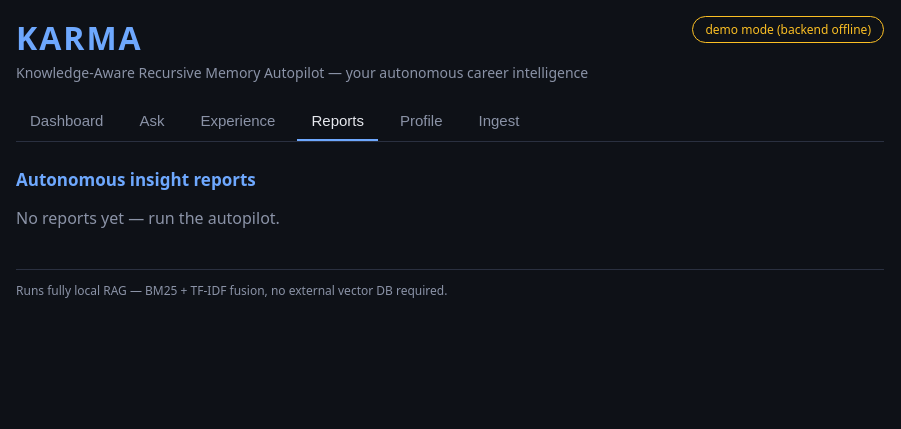
it: failure feedback + demo fallback correctness › Ask shows a real error card when the backend returns an error
Click the button with test id "tab-Ask" at [152, 122], box 125,102 -> 178,141
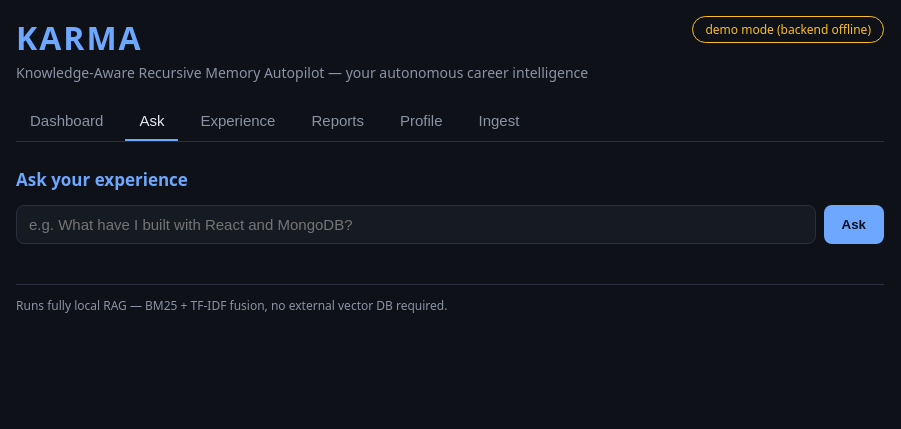
Type "question?" into the field with test id "ask-input" at [416, 225], box 16,205 -> 816,244
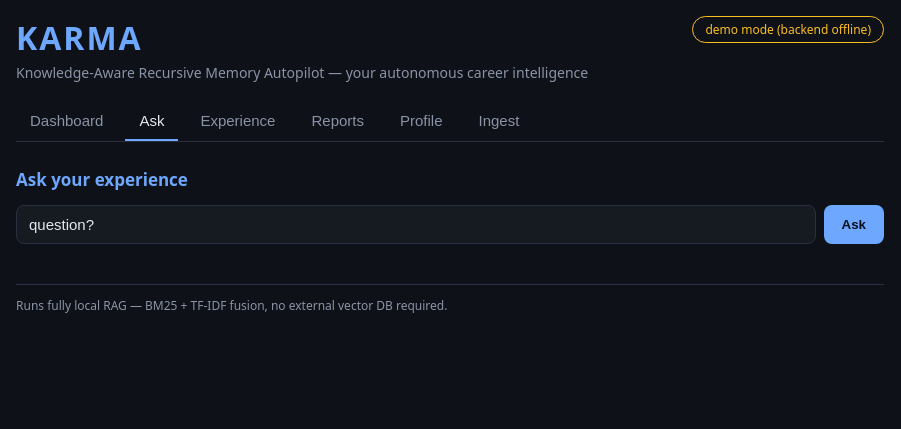
Click the button with test id "ask-submit" at [854, 225], box 824,205 -> 884,244
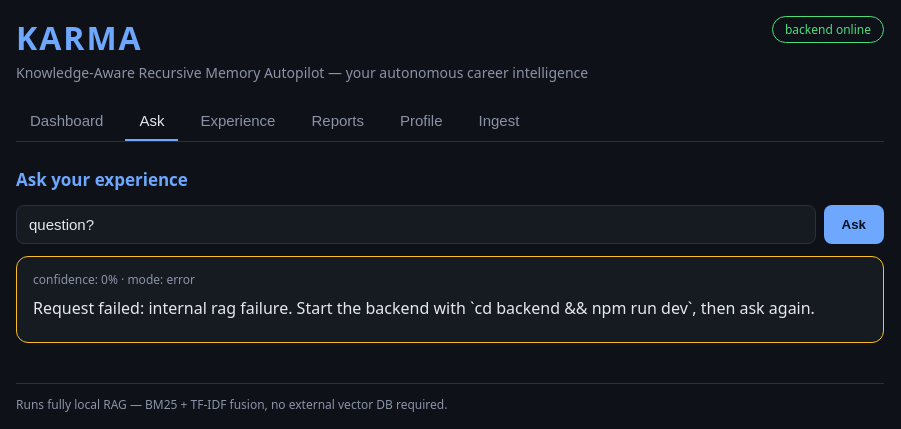
Result: the element with test id "answer-card" is shown at 16,256 -> 884,343
Result: the text "Request failed" is shown at 33,297 -> 815,319
